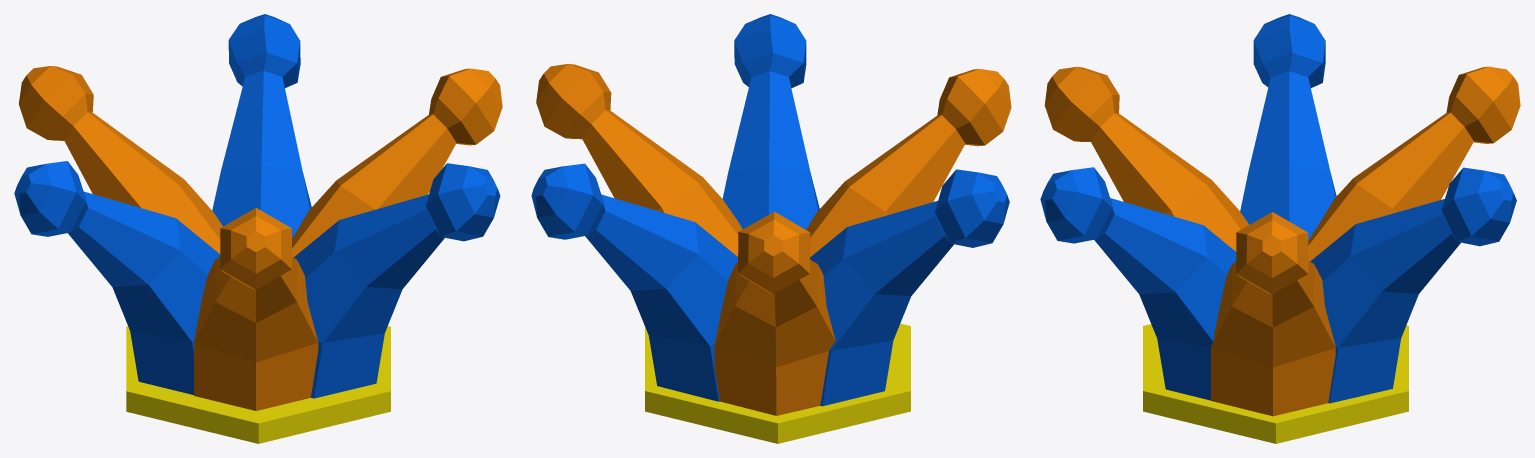
File: GorroFestivo.fbx
The picture shows the model from 3 angles, left to right: view 1: azimuth 30°, elevation 25°; view 2: azimuth 150°, elevation 25°; view 3: azimuth 270°, elevation 25°; orthographic projection.
Parts seen in each view (by area): view 1: GorroFestivo; view 2: GorroFestivo; view 3: GorroFestivo.
Part boxes in pixels (x1,y1,x2,y2): GorroFestivo: [14, 14, 502, 443]; GorroFestivo: [531, 14, 1011, 443]; GorroFestivo: [1040, 14, 1520, 443].
Bounding box in the file's own units: 50.53 × 26.81 × 44.47.
